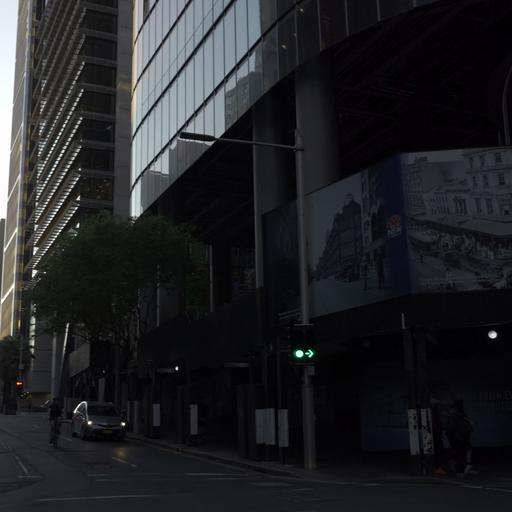Street light: (176, 128, 318, 469)
